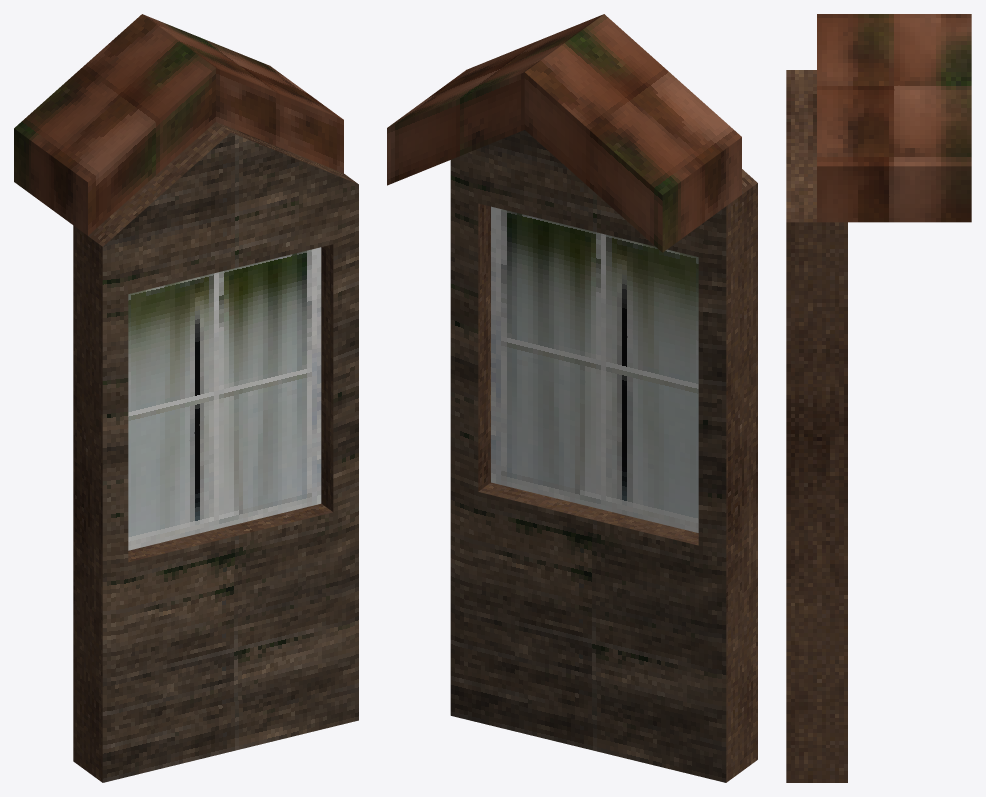
File: roof_02_top_window_04.glb
3 renders of one model, left to right at view 1: azimuth 30°, elevation 25°; view 2: azimuth 150°, elevation 25°; view 3: azimuth 270°, elevation 25°, orthographic. The views are drawn at different scales.
Visible parts, largest first — view 1: roof_02_top_window_042, window_attic_04_002; view 2: roof_02_top_window_042, window_attic_04_002; view 3: roof_02_top_window_042.
Part boxes in pixels (x1=…): roof_02_top_window_042: x1=14, y1=14, x2=358, y2=782; window_attic_04_002: x1=128, y1=247, x2=321, y2=550; roof_02_top_window_042: x1=387, y1=14, x2=757, y2=782; window_attic_04_002: x1=491, y1=206, x2=698, y2=532; roof_02_top_window_042: x1=786, y1=14, x2=971, y2=782.
Size of the model in its own units: 1 by 2.51 by 0.6.
2 materials, 2 textured.
